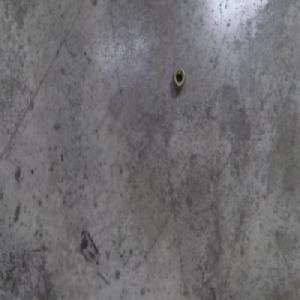Nut: (172, 66, 186, 90)
